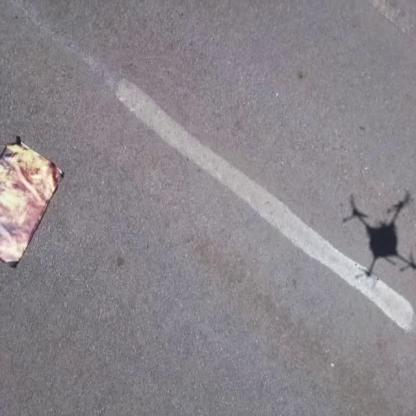fire-poster: (0, 134, 65, 268)
